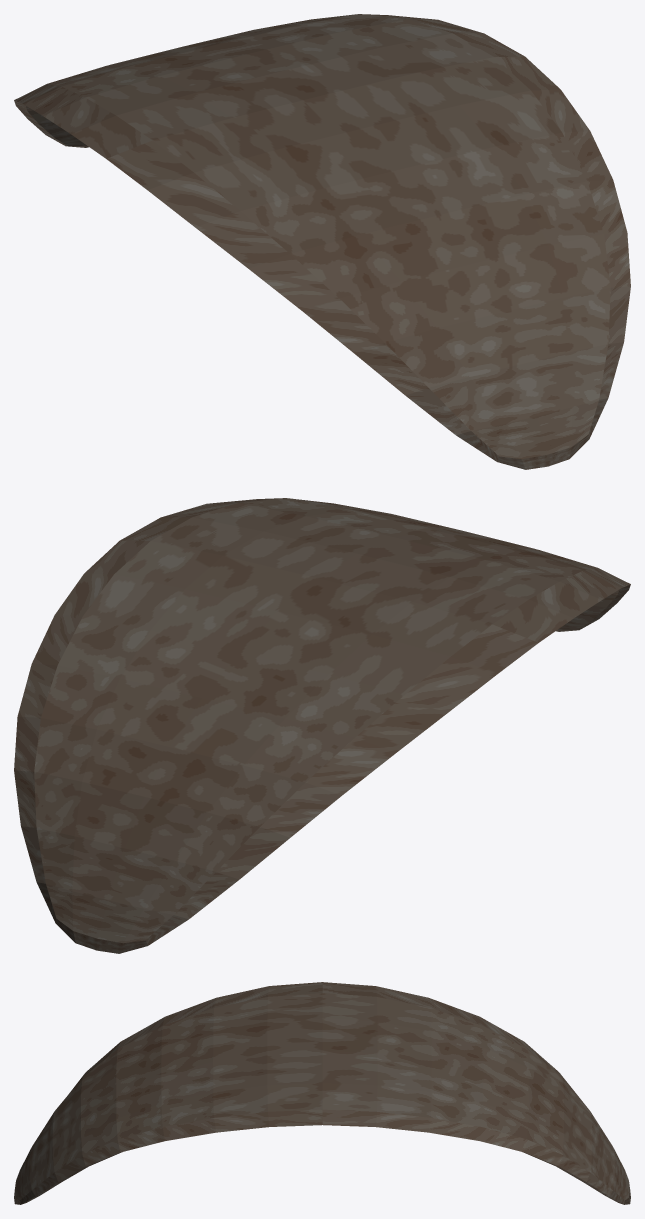
The model's file is paracaidas (1).fbx.
3 renders of one model, top to bottom at view 1: azimuth 30°, elevation 25°; view 2: azimuth 150°, elevation 25°; view 3: azimuth 270°, elevation 25°, orthographic. The views are drawn at different scales.
Visible parts, largest first — view 1: paracaidas; view 2: paracaidas; view 3: paracaidas.
Boxes of the visible parts, box(x1,y1,x2,y2) form: paracaidas: box(14, 14, 630, 469); paracaidas: box(14, 498, 630, 953); paracaidas: box(14, 982, 630, 1204).
Size of the model in its own units: 48.77 by 23.46 by 88.88.
